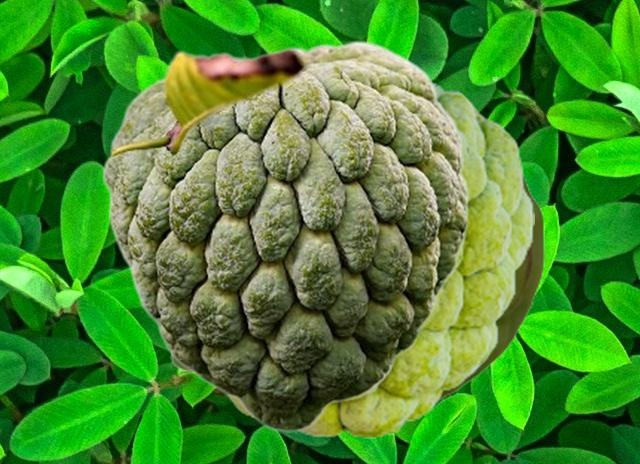atis: (101, 39, 468, 431), (223, 77, 533, 437), (170, 171, 543, 407)
